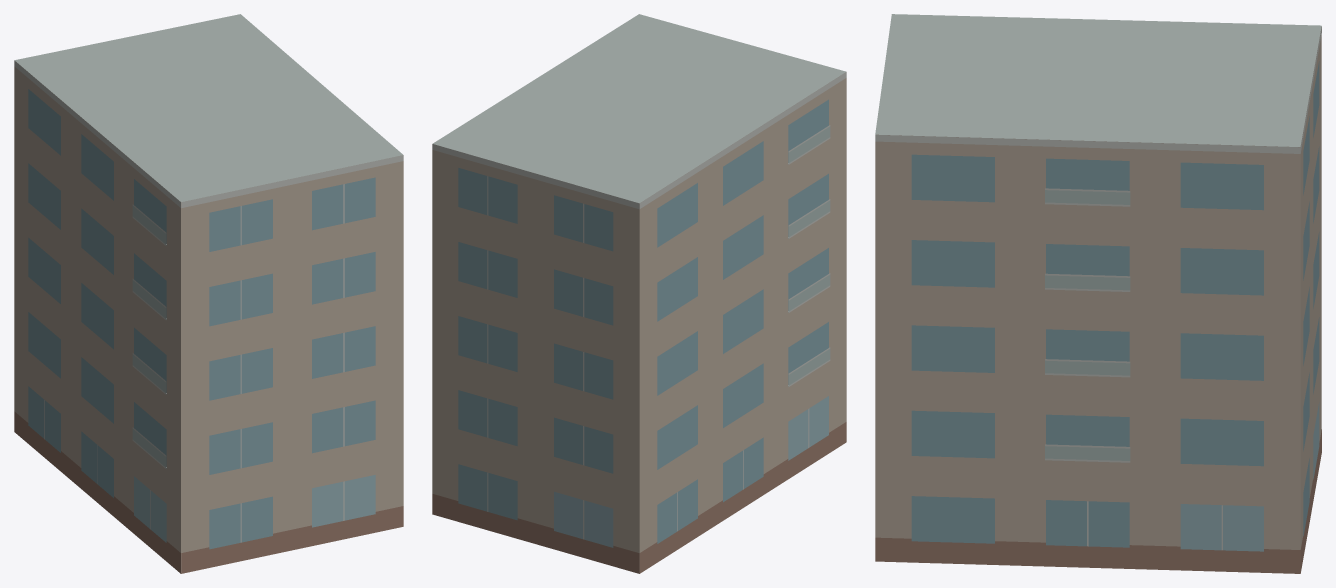
Rendered from survey-upis-33003415.glb.
3 renders of one model, left to right at view 1: azimuth 30°, elevation 25°; view 2: azimuth 150°, elevation 25°; view 3: azimuth 270°, elevation 25°, orthographic. The views are drawn at different scales.
Visible parts, largest first — view 1: survey-upis-33003415.tmp; view 2: survey-upis-33003415.tmp; view 3: survey-upis-33003415.tmp.
Boxes of the visible parts, left/top/right/bottom form: survey-upis-33003415.tmp: left=14, top=14, right=403, bottom=573; survey-upis-33003415.tmp: left=432, top=14, right=846, bottom=573; survey-upis-33003415.tmp: left=875, top=14, right=1321, bottom=573.
Size of the model in its own units: 10.11 by 15.1 by 14.33.
